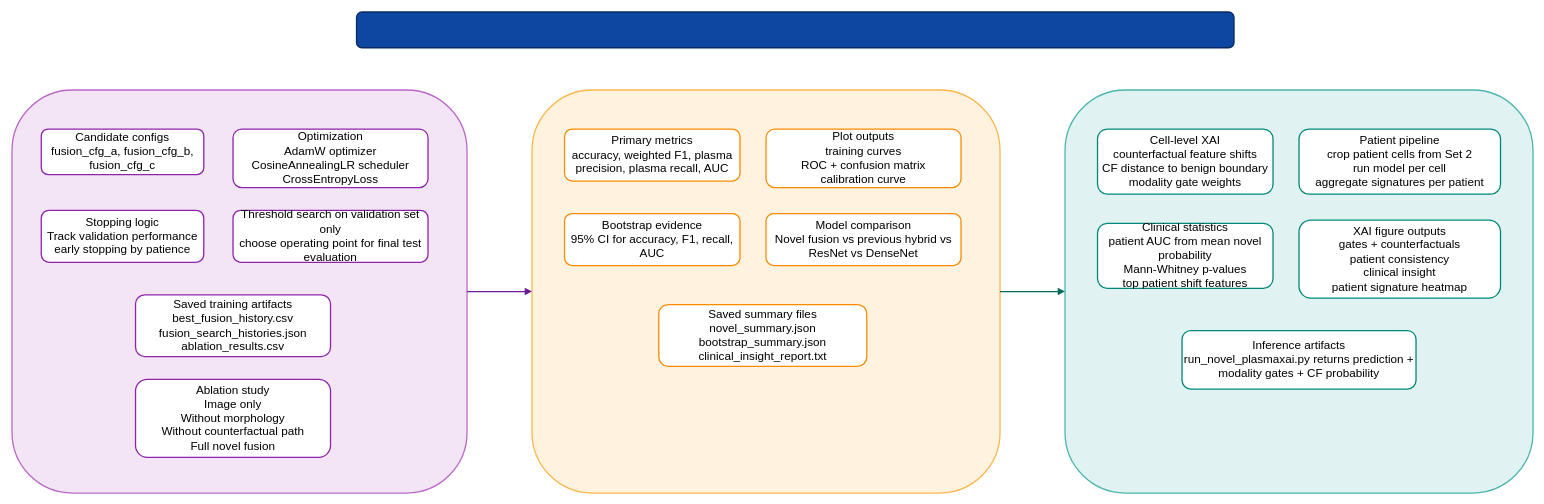
Some shapes in this 1544 by 504 pixel diagram are drawn without their labels. The box of each missing label's shape, as (x1, y1, x2, y2) in pixels:
A. Training and Model Selection: (11, 89, 467, 493)
B. Evaluation and Statistical Support: (531, 89, 1000, 493)
C. Explainable AI and Patient Validation: (1064, 89, 1533, 493)
PlasmaXAI-Novel: Training, Evaluation, and Explainable AI Outputs: (356, 11, 1234, 48)
